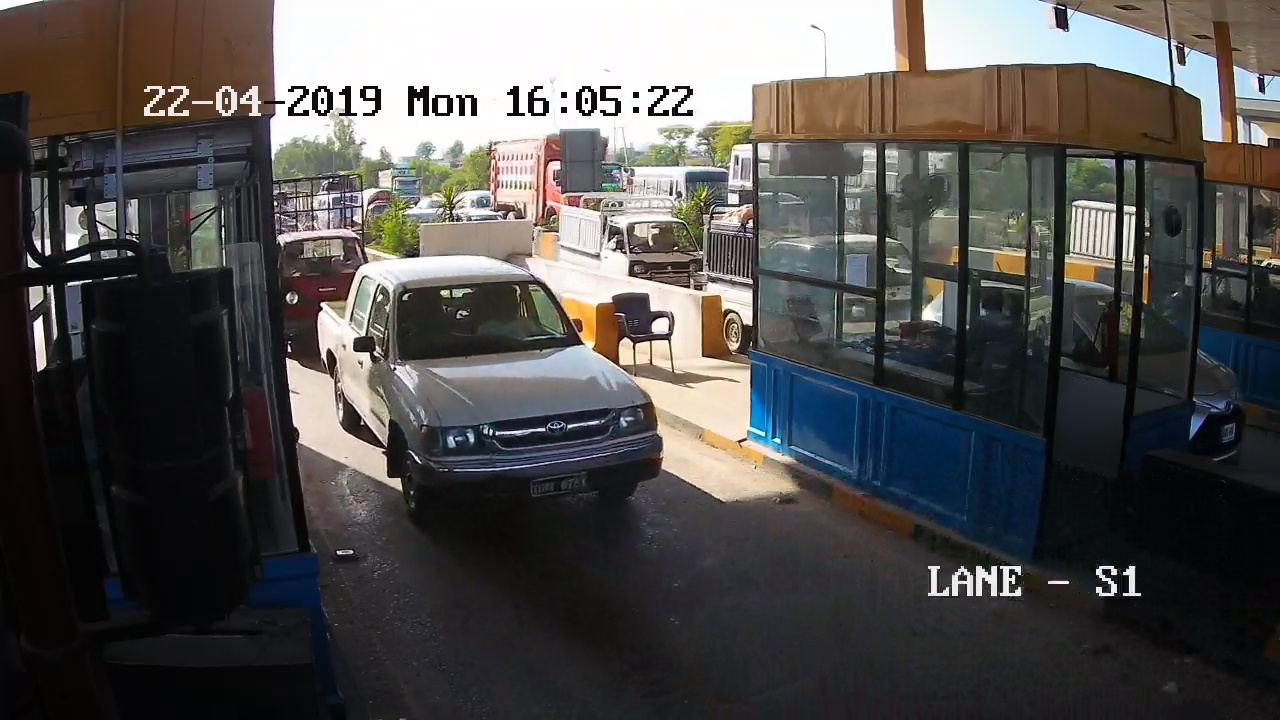Number Plate (Car): (531, 472, 593, 497)
